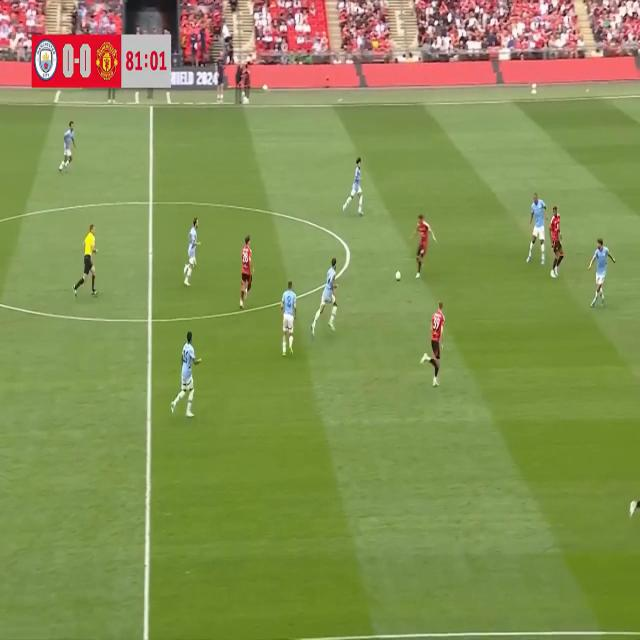ball: (394, 262, 405, 292)
players: (170, 324, 204, 428), (421, 300, 448, 394), (312, 256, 341, 339), (524, 187, 550, 271), (408, 207, 437, 282), (586, 236, 616, 308), (240, 228, 262, 314), (342, 143, 367, 218), (279, 277, 299, 369), (182, 218, 206, 292), (550, 209, 570, 280), (58, 119, 79, 174), (625, 477, 640, 527)
refree: (70, 215, 101, 304)
